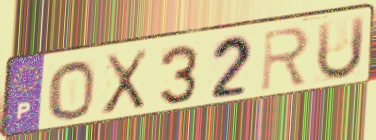2: (205, 30, 258, 105)
3: (157, 42, 201, 106)
O: (46, 58, 97, 121)
R: (258, 24, 312, 94)
U: (314, 12, 368, 83)
X: (99, 46, 151, 119)
